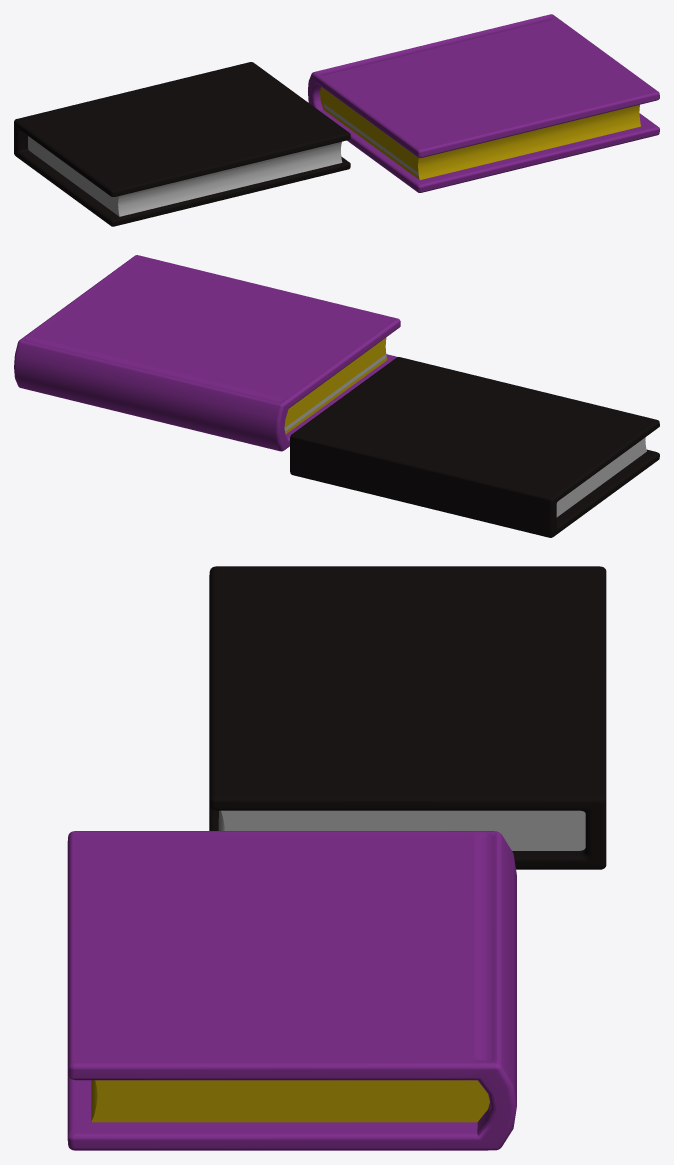
The model's file is books.fbx.
3 renders of one model, top to bottom at view 1: azimuth 30°, elevation 25°; view 2: azimuth 150°, elevation 25°; view 3: azimuth 270°, elevation 25°, orthographic. The views are drawn at different scales.
Parts seen in each view (by area): view 1: book_1, book_2, pages_1, pages_2; view 2: book_1, book_2, pages_1, pages_2; view 3: book_1, book_2, pages_1, pages_2.
Part boxes in pixels (bbox=[...]): book_1: bbox=[308, 14, 659, 192]; book_2: bbox=[14, 62, 350, 226]; pages_1: bbox=[320, 87, 640, 179]; pages_2: bbox=[28, 136, 342, 216]; book_1: bbox=[14, 255, 400, 451]; book_2: bbox=[290, 357, 659, 537]; pages_1: bbox=[284, 337, 387, 434]; pages_2: bbox=[556, 437, 646, 517]; book_1: bbox=[67, 831, 516, 1150]; book_2: bbox=[209, 566, 606, 869]; pages_1: bbox=[91, 1080, 489, 1122]; pages_2: bbox=[218, 810, 585, 850].
Size of the model in its own units: 273 by 22.14 by 124.
